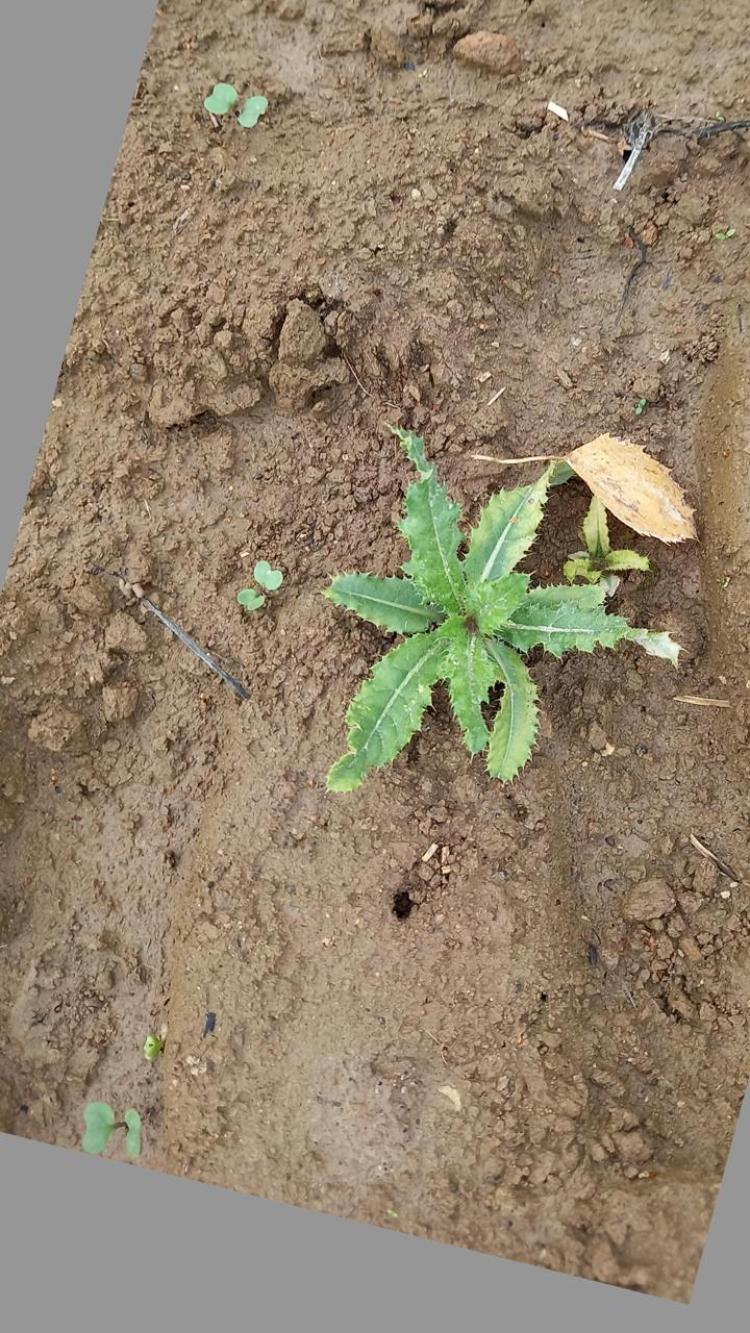bodyak: (312, 427, 690, 810)
